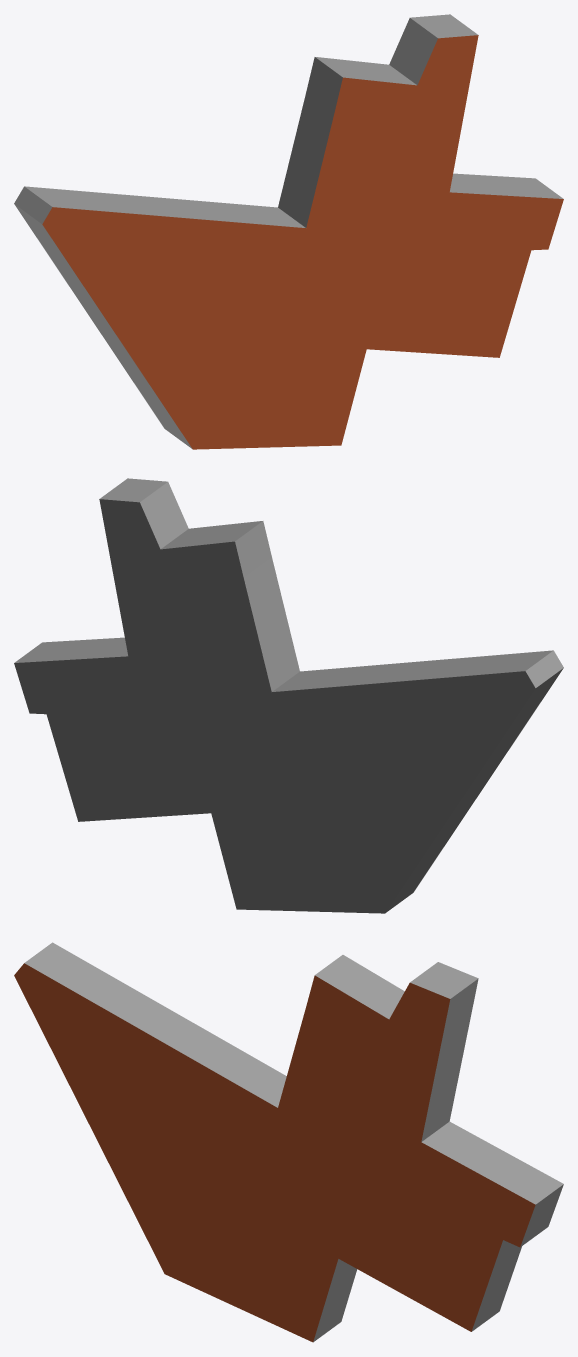
Rendered from construction_3159_assumed_A_Casa_h6m.obj.
3 renders of one model, top to bottom at view 1: azimuth 30°, elevation 25°; view 2: azimuth 150°, elevation 25°; view 3: azimuth 330°, elevation 25°, orthographic.
Visible parts, largest first — view 1: construction_3159_assumed_A_Casa; view 2: construction_3159_assumed_A_Casa; view 3: construction_3159_assumed_A_Casa.
Part boxes in pixels (box(x1,y1,x2,y2)): construction_3159_assumed_A_Casa: box(14, 14, 563, 449); construction_3159_assumed_A_Casa: box(14, 478, 563, 913); construction_3159_assumed_A_Casa: box(14, 942, 563, 1342).
Size of the model in its own units: 63.86 by 44.87 by 6.
